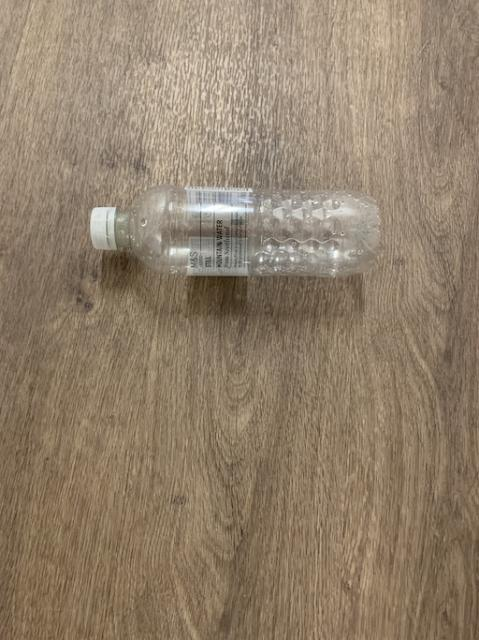plastic: (89, 185, 379, 275)
